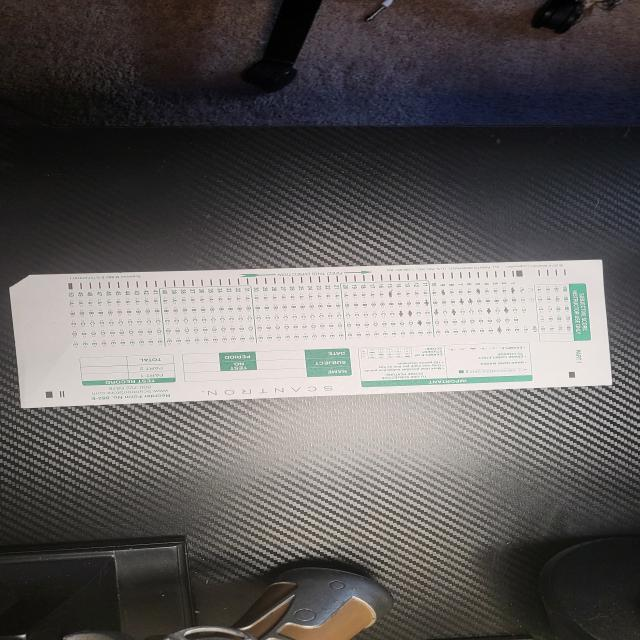scantron: (10, 260, 612, 408)
